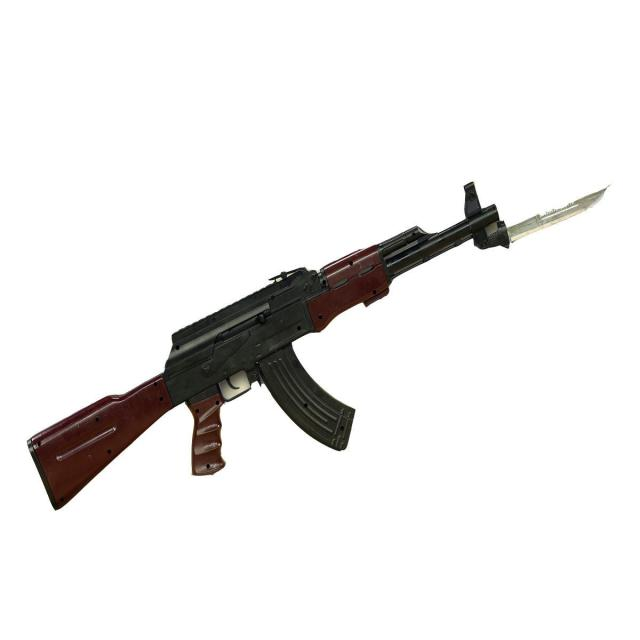weapon: (14, 170, 499, 540), (498, 182, 612, 258)
